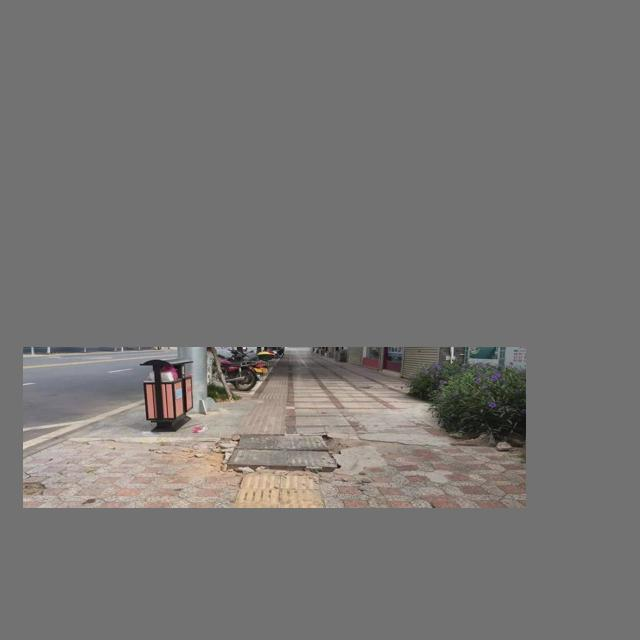circle: (195, 424, 361, 489)
